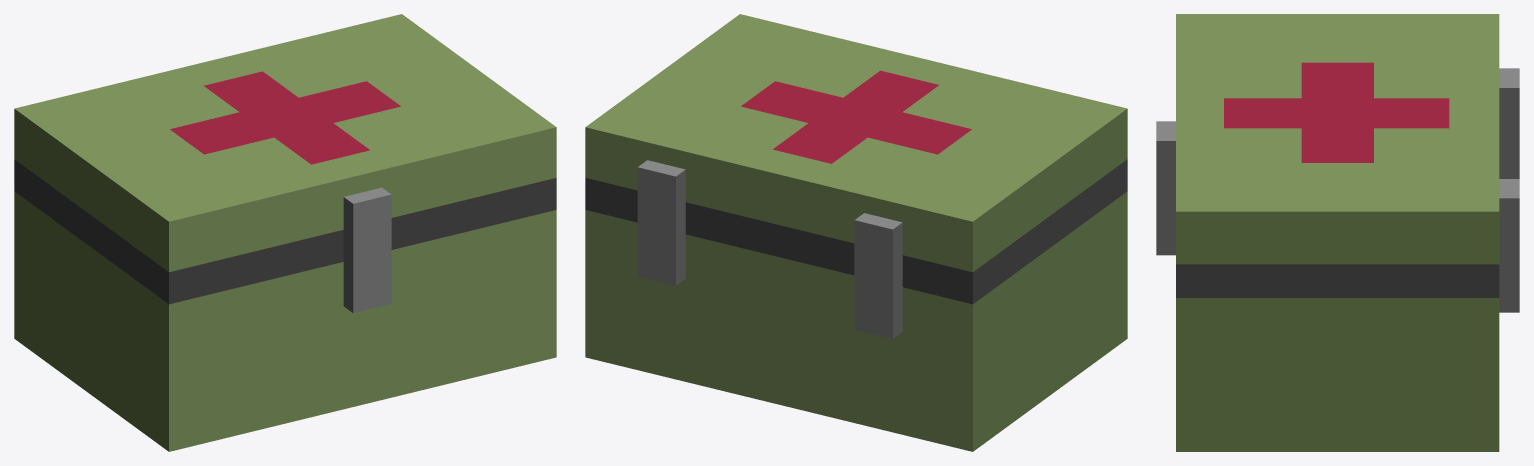
File: Item_Drop_Firstaid_Full_01.FBX
3 renders of one model, left to right at view 1: azimuth 30°, elevation 25°; view 2: azimuth 150°, elevation 25°; view 3: azimuth 270°, elevation 25°, orthographic. The views are drawn at different scales.
Visible parts, largest first — view 1: Items_MedicBox_01; view 2: Items_MedicBox_01; view 3: Items_MedicBox_01.
Part boxes in pixels (left/top/right/bottom): Items_MedicBox_01: left=14, top=14, right=556, bottom=451; Items_MedicBox_01: left=585, top=14, right=1127, bottom=451; Items_MedicBox_01: left=1156, top=14, right=1519, bottom=451.
Size of the model in its own units: 151 by 85.77 by 118.
